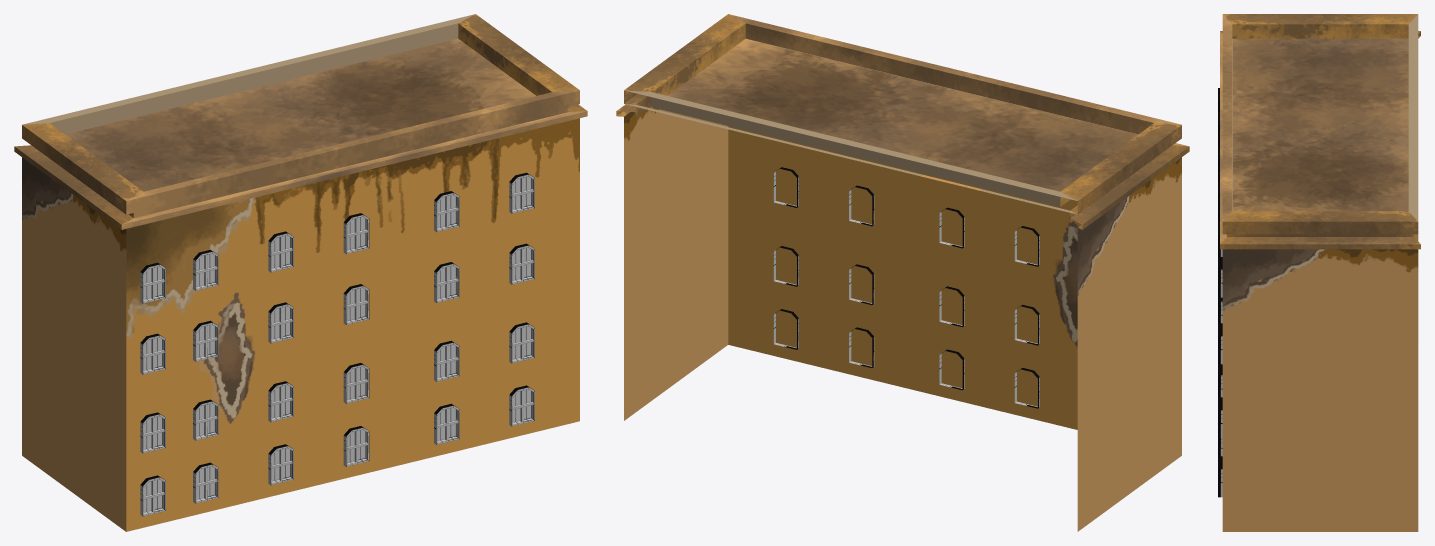
The model's file is Modelo_Predio1.fbx.
3 views of the same model, side by side, from view 1: azimuth 30°, elevation 25°; view 2: azimuth 150°, elevation 25°; view 3: azimuth 270°, elevation 25° (orthographic). The views are drawn at different scales.
Visible parts, largest first — view 1: Predio_Variacao_1; view 2: Predio_Variacao_1; view 3: Predio_Variacao_1.
Boxes of the visible parts, x1,y1,x2,y2 form: Predio_Variacao_1: (14,14,587,531); Predio_Variacao_1: (616,14,1189,531); Predio_Variacao_1: (1218,14,1420,531).
Bounding box in the file's own units: 6188 × 4198 × 2487.
